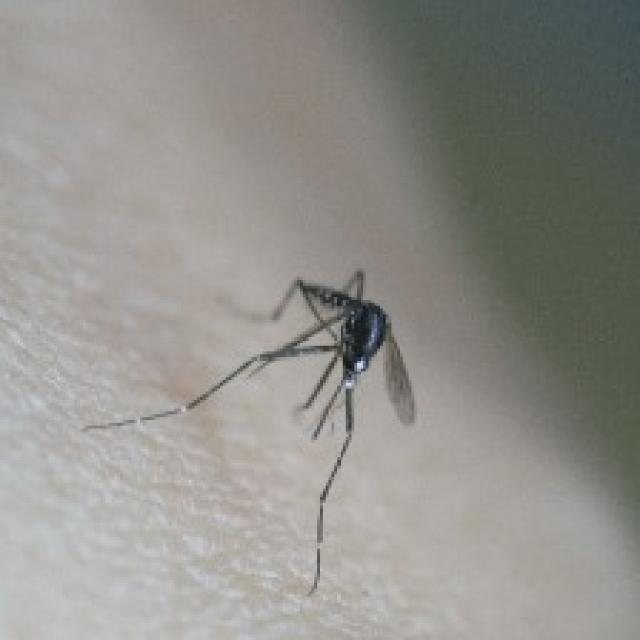aedes: (80, 266, 417, 594)
